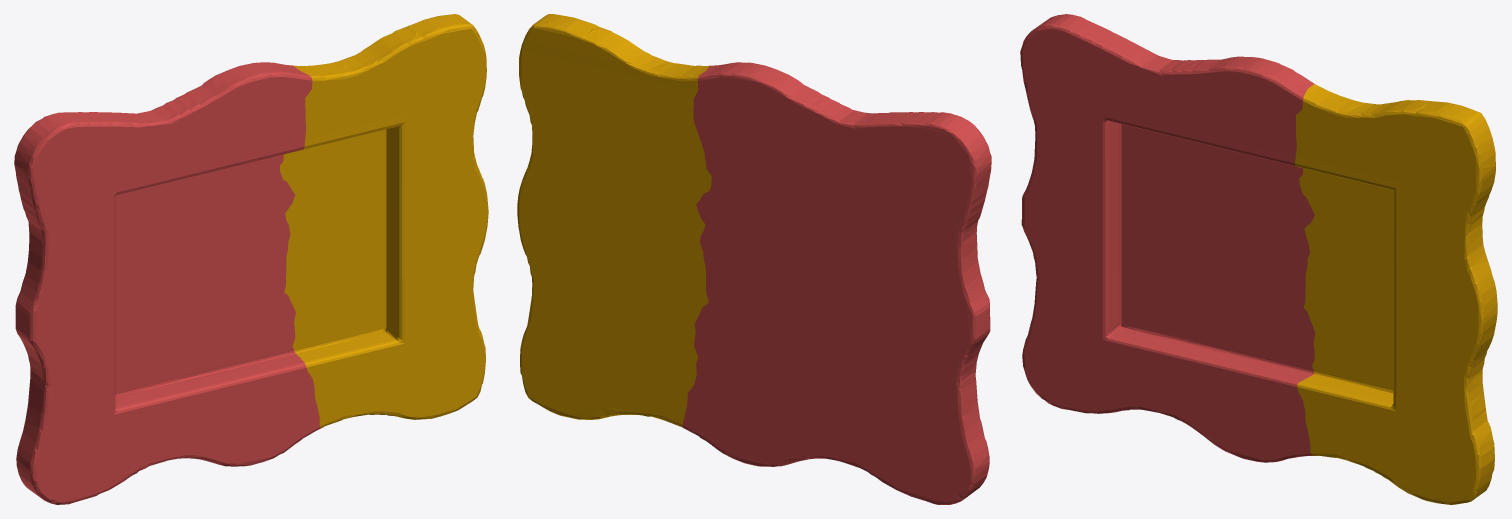
Rendered from fractured_70_2pcs.glb.
3 views of the same model, side by side, from view 1: azimuth 30°, elevation 25°; view 2: azimuth 150°, elevation 25°; view 3: azimuth 330°, elevation 25° (orthographic).
Parts seen in each view (by area): view 1: piece_1.obj, piece_0.obj; view 2: piece_1.obj, piece_0.obj; view 3: piece_1.obj, piece_0.obj.
Part boxes in pixels (bbox=[...]): piece_1.obj: bbox=[14, 62, 320, 504]; piece_0.obj: bbox=[280, 14, 488, 428]; piece_1.obj: bbox=[682, 62, 991, 504]; piece_0.obj: bbox=[517, 14, 711, 427]; piece_1.obj: bbox=[1020, 14, 1315, 462]; piece_0.obj: bbox=[1295, 84, 1497, 504].
Bounding box in the file's own units: 1 × 0.8105 × 0.0645.
